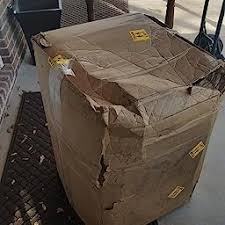damaged package: (41, 45, 148, 195), (181, 65, 224, 94)
